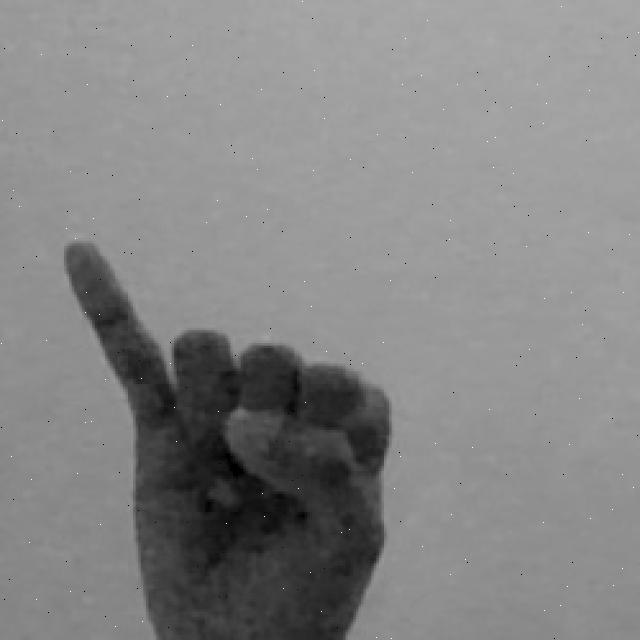I: (62, 240, 395, 640)
